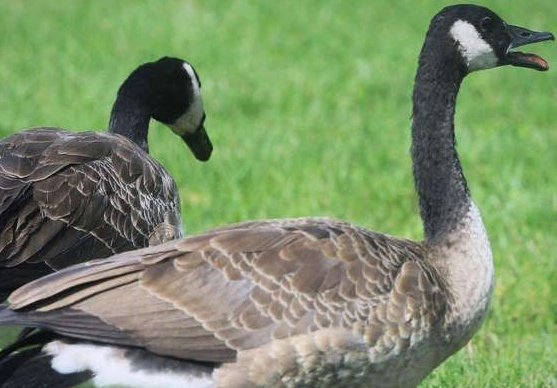goose: (19, 1, 557, 387), (2, 46, 237, 301)
